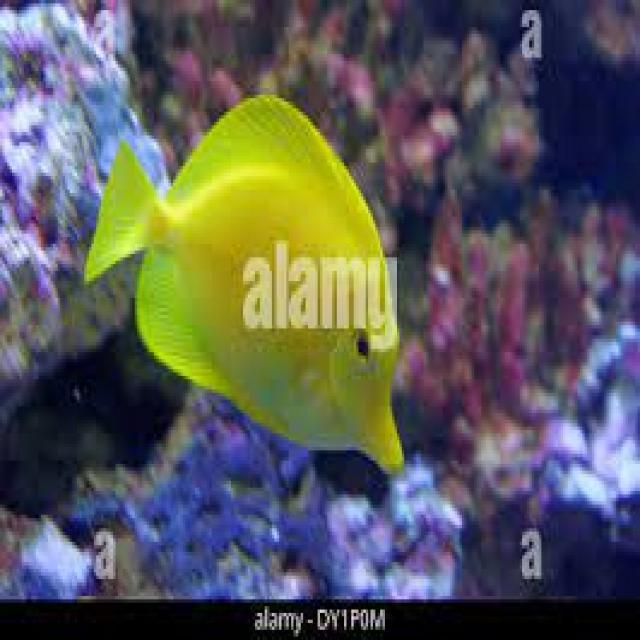YellowTang: (70, 78, 435, 498)
